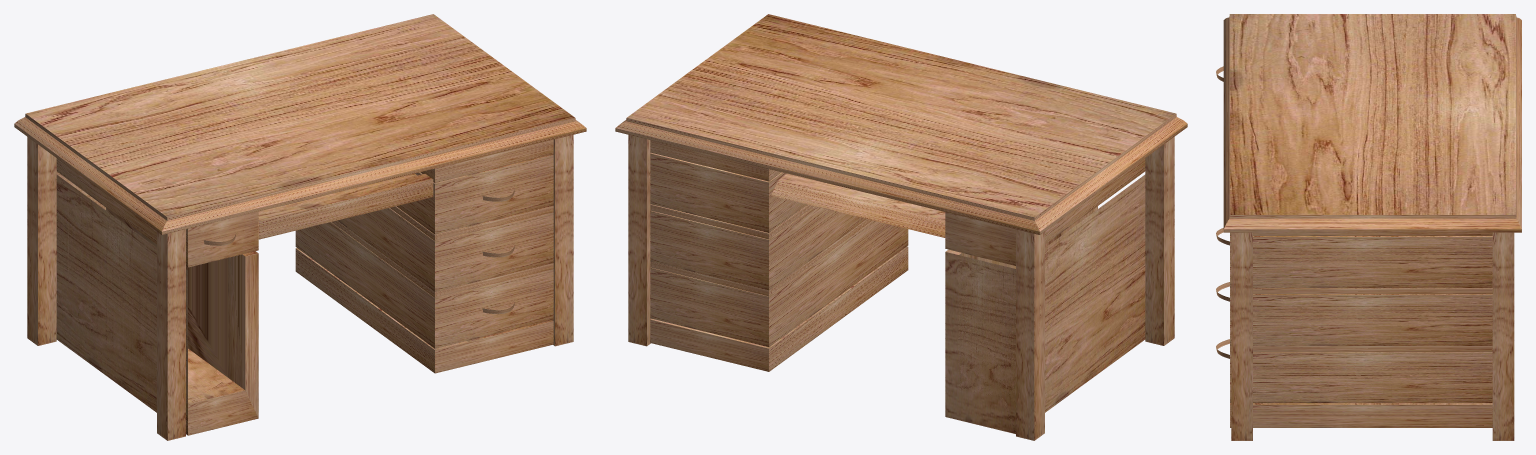
The model's file is Table.obj.
3 renders of one model, left to right at view 1: azimuth 30°, elevation 25°; view 2: azimuth 150°, elevation 25°; view 3: azimuth 270°, elevation 25°, orthographic.
Visible parts, largest first — view 1: Cube, Cube_11, Cube_3, Stand_2, Cube_2, Cube_1, Cube_5, Stand_1, Cube_9, Cube_10, Cube_4, Cube_8 (+1 smaller); view 2: Cube, Cube_11, Cube_3, Stand_1, Cube_2, Cube_1, Cube_5, Stand_2, Cube_9, Cube_10, Cube_4, Cube_8 (+1 smaller); view 3: Cube, Cube_2, Cube_1, Cube_3, Cube_5, Stand_1, Stand_2, Cube_7, Cube_8, Cube_4.
Boxes of the visible parts, left/top/right/bottom form: Cube: left=14, top=14, right=586, bottom=234; Cube_11: left=56, top=171, right=258, bottom=435; Cube_3: left=295, top=222, right=553, bottom=348; Stand_2: left=157, top=135, right=573, bottom=440; Cube_2: left=337, top=208, right=553, bottom=291; Cube_1: left=396, top=154, right=553, bottom=234; Cube_5: left=295, top=248, right=553, bottom=373; Stand_1: left=27, top=137, right=56, bottom=345; Cube_9: left=258, top=173, right=433, bottom=239; Cube_10: left=56, top=158, right=258, bottom=267; Cube_4: left=420, top=139, right=553, bottom=182; Cube_8: left=331, top=220, right=553, bottom=297; Cube: left=615, top=14, right=1187, bottom=234; Cube_11: left=945, top=174, right=1145, bottom=433; Cube_3: left=650, top=220, right=908, bottom=346; Stand_1: left=628, top=135, right=1044, bottom=440; Cube_2: left=650, top=206, right=866, bottom=290; Cube_1: left=650, top=153, right=807, bottom=232; Cube_5: left=650, top=246, right=908, bottom=371; Stand_2: left=1145, top=137, right=1174, bottom=345; Cube_9: left=771, top=173, right=945, bottom=237; Cube_10: left=945, top=158, right=1145, bottom=265; Cube_4: left=650, top=140, right=781, bottom=181; Cube_8: left=650, top=219, right=872, bottom=296; Cube: left=1223, top=14, right=1521, bottom=232; Cube_2: left=1230, top=294, right=1492, bottom=345; Cube_1: left=1230, top=236, right=1492, bottom=287; Cube_3: left=1230, top=352, right=1492, bottom=403; Cube_5: left=1230, top=403, right=1492, bottom=427; Stand_1: left=1492, top=232, right=1514, bottom=440; Stand_2: left=1231, top=232, right=1252, bottom=440; Cube_7: left=1230, top=288, right=1492, bottom=294; Cube_8: left=1230, top=346, right=1492, bottom=351; Cube_4: left=1230, top=232, right=1492, bottom=235.
Size of the model in its own units: 458 by 231 by 283.
Materials: 1 (1 with a texture image).
